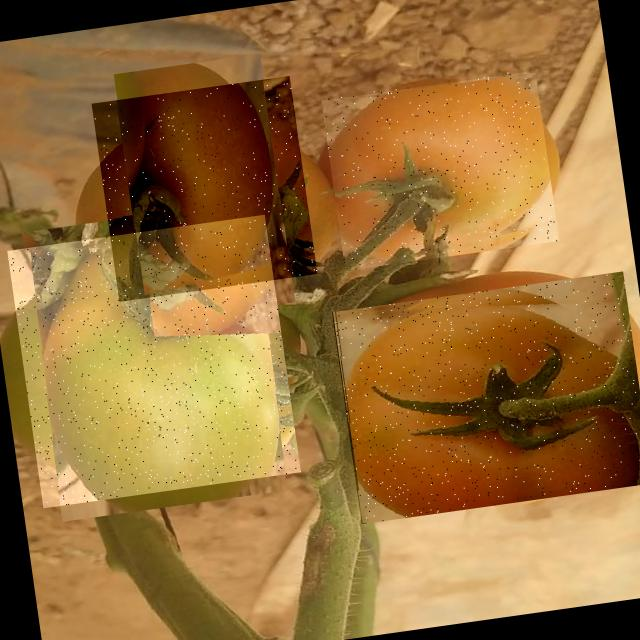Ripe Tomato: (332, 271, 640, 524), (91, 76, 318, 302), (322, 68, 560, 270)
Unripe Tomato: (7, 214, 301, 508)
